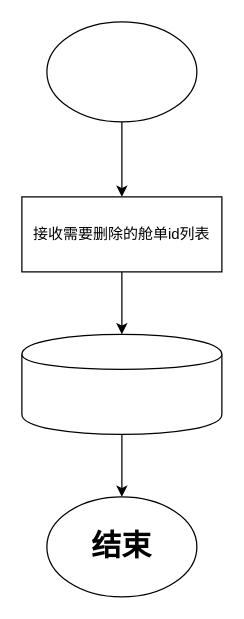
Some shapes in this 244 by 619 pixel diagram are drawn without their labels. The box of each missing label's shape, as (x1, y1, x2, y2) in pixels:
开始: (46, 21, 197, 122)
更新舱单表中舱单的删除状态: (21, 333, 222, 434)
